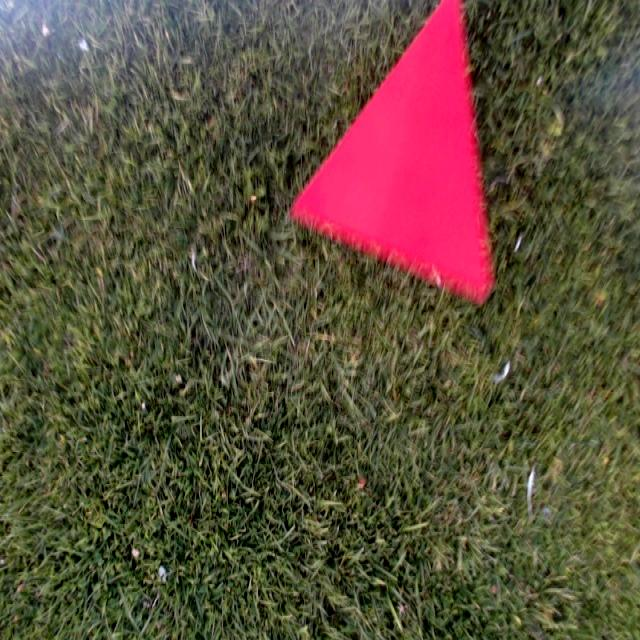red_triangle: (287, 2, 495, 306)
